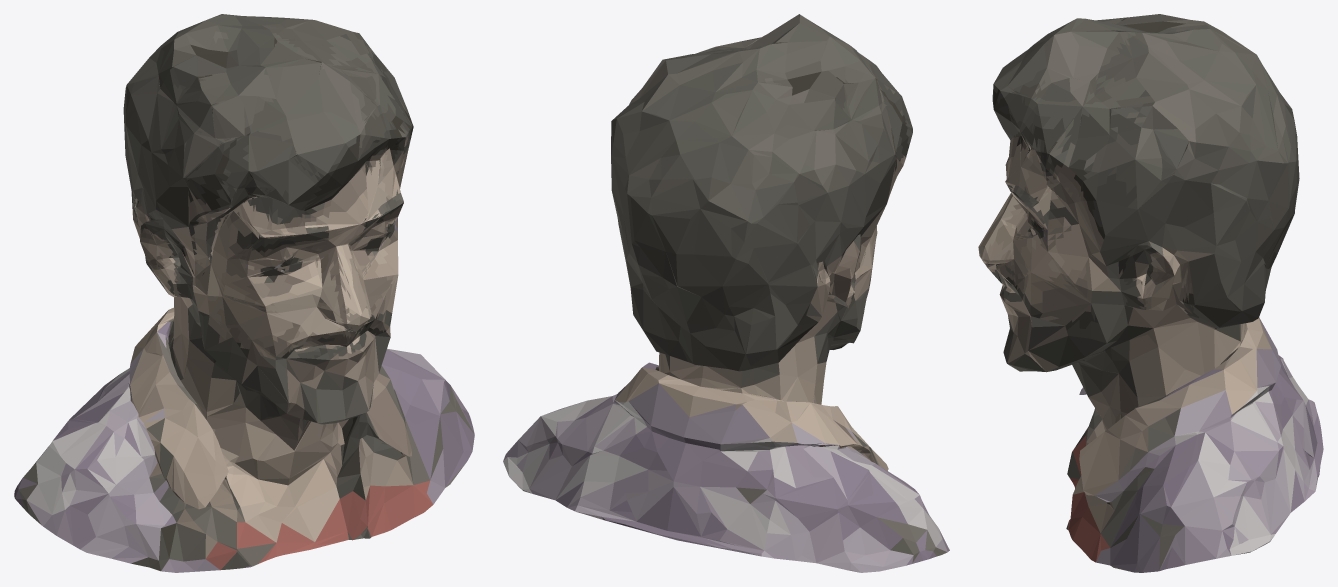
3 renders of one model, left to right at view 1: azimuth 30°, elevation 25°; view 2: azimuth 150°, elevation 25°; view 3: azimuth 270°, elevation 25°, orthographic. The views are drawn at different scales.
Visible parts, largest first — view 1: geometry_0; view 2: geometry_0; view 3: geometry_0.
Part boxes in pixels (left/top/right/bottom): geometry_0: left=14, top=14, right=474, bottom=572; geometry_0: left=503, top=14, right=949, bottom=572; geometry_0: left=978, top=14, right=1323, bottom=572.
Bounding box in the file's own units: 0.8893 × 0.9588 × 0.6398.
